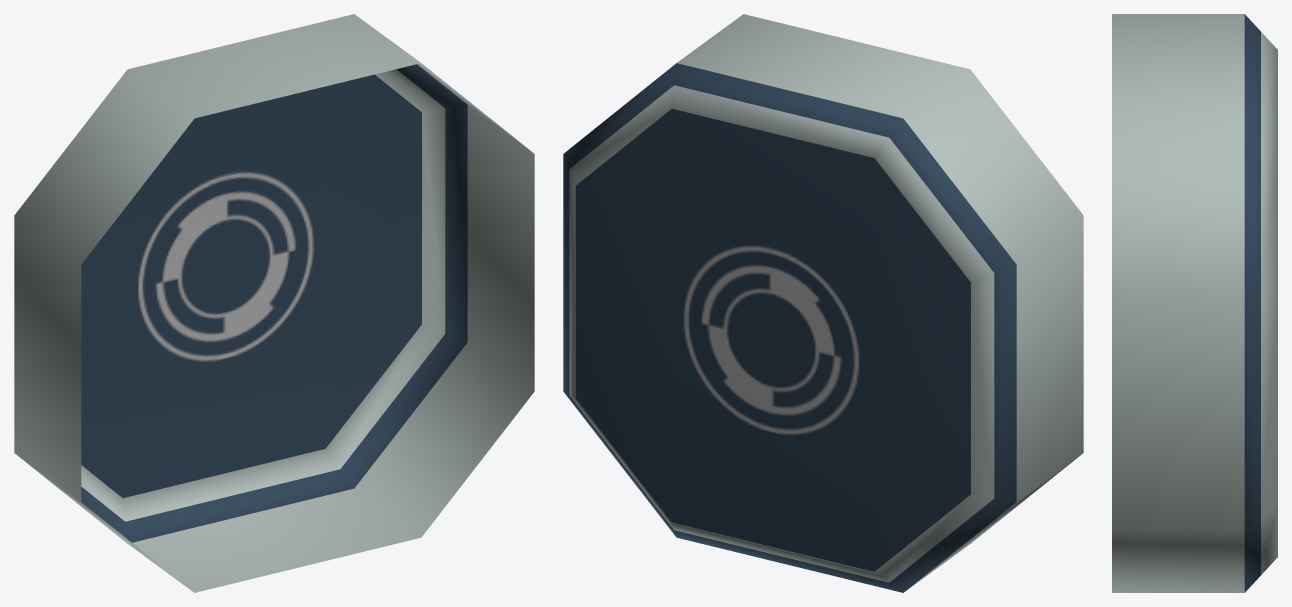
File: SM_pass_magnetique.fbx
3 renders of one model, left to right at view 1: azimuth 30°, elevation 25°; view 2: azimuth 150°, elevation 25°; view 3: azimuth 270°, elevation 25°, orthographic.
Parts seen in each view (by area): view 1: SM_pass_magnetique; view 2: SM_pass_magnetique; view 3: SM_pass_magnetique.
Boxes of the visible parts, x1,y1,x2,y2 form: SM_pass_magnetique: (14, 14, 534, 592); SM_pass_magnetique: (563, 14, 1083, 592); SM_pass_magnetique: (1112, 14, 1277, 592).
Bounding box in the file's own units: 57.99 × 57.99 × 18.57.
